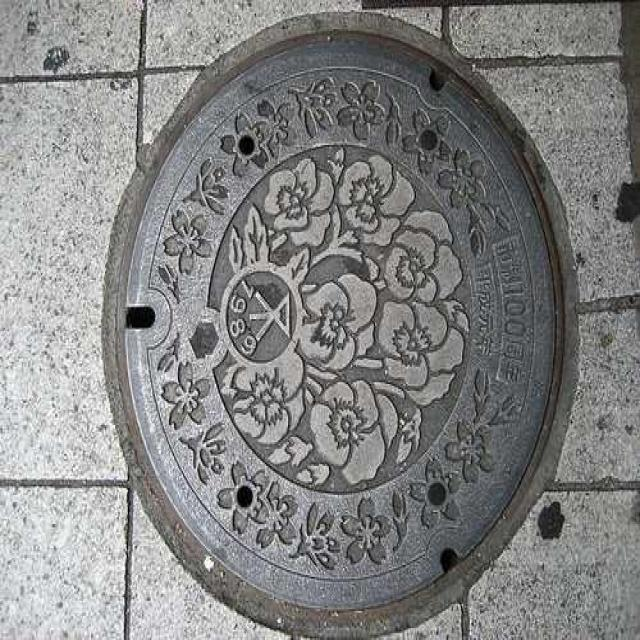manhole: (105, 13, 574, 636)
